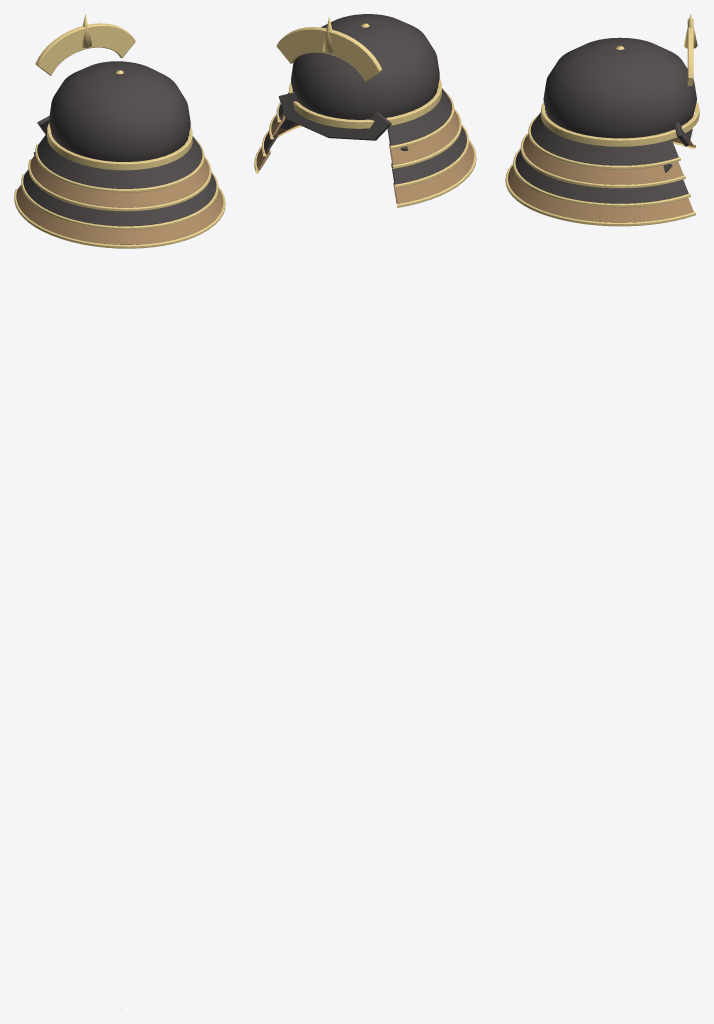
Rendered from helm_kabuto2.glb.
3 views of the same model, side by side, from view 1: azimuth 30°, elevation 25°; view 2: azimuth 150°, elevation 25°; view 3: azimuth 270°, elevation 25° (orthographic). The views are drawn at different scales.
Parts seen in each view (by area): view 1: G_helm_kabuto2; view 2: G_helm_kabuto2; view 3: G_helm_kabuto2.
Boxes of the visible parts, x1,y1,x2,y2 form: G_helm_kabuto2: (14, 14, 225, 1009); G_helm_kabuto2: (254, 14, 476, 1009); G_helm_kabuto2: (505, 14, 699, 1009).
Size of the model in its own units: 0.3618 by 1.87 by 0.3305.
